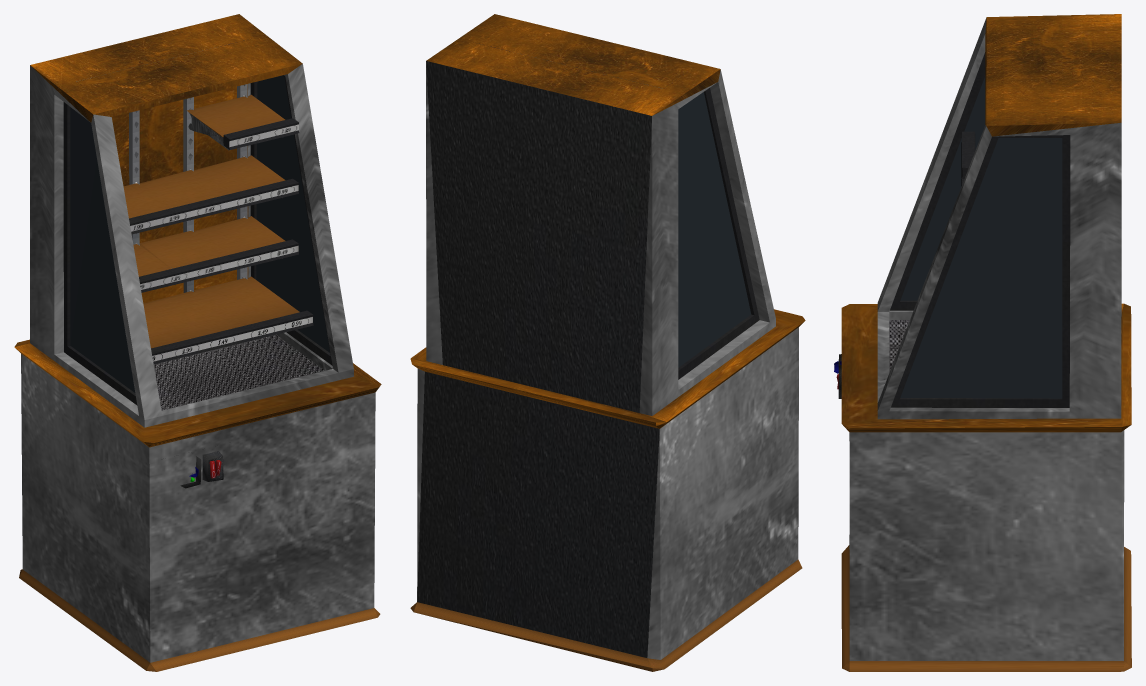
Rendered from store_display_case.gltf.
3 renders of one model, left to right at view 1: azimuth 30°, elevation 25°; view 2: azimuth 150°, elevation 25°; view 3: azimuth 270°, elevation 25°, orthographic. The views are drawn at different scales.
Visible parts, largest first — view 1: store_display_case; view 2: store_display_case; view 3: store_display_case.
Boxes of the visible parts, box(x1,y1,x2,y2) form: store_display_case: box(14, 14, 381, 671); store_display_case: box(410, 14, 805, 671); store_display_case: box(834, 14, 1131, 671).
Bounding box in the file's own units: 0.6358 × 1.3 × 0.6458.
Materials: 1 (1 with a texture image).
